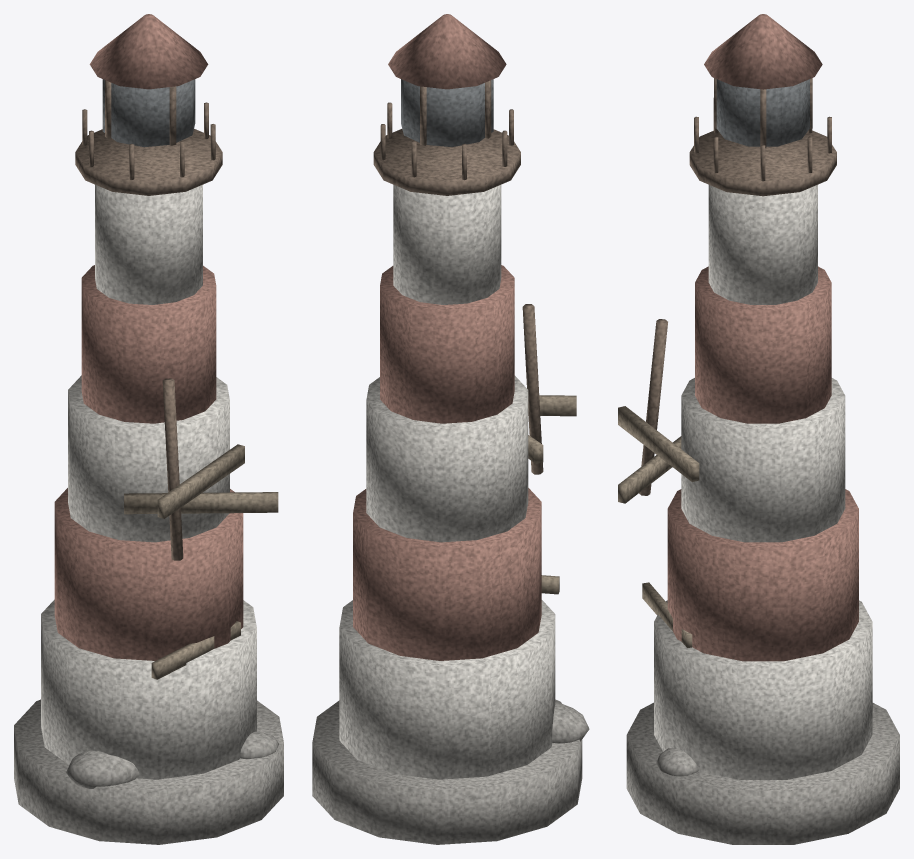
Rendered from prop_mercusuar_rusak.obj.
3 renders of one model, left to right at view 1: azimuth 30°, elevation 25°; view 2: azimuth 150°, elevation 25°; view 3: azimuth 270°, elevation 25°, orthographic.
Parts seen in each view (by area): view 1: prop_mercusuar_rusak; view 2: prop_mercusuar_rusak; view 3: prop_mercusuar_rusak.
Boxes of the visible parts, x1,y1,x2,y2 form: prop_mercusuar_rusak: (14, 14, 283, 844); prop_mercusuar_rusak: (312, 14, 589, 844); prop_mercusuar_rusak: (618, 14, 899, 844).
Size of the model in its own units: 2.24 by 7.18 by 2.37.
Materials: 1 (1 with a texture image).
